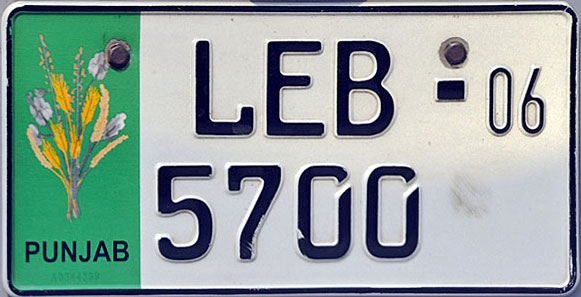plate: (3, 1, 579, 296)
